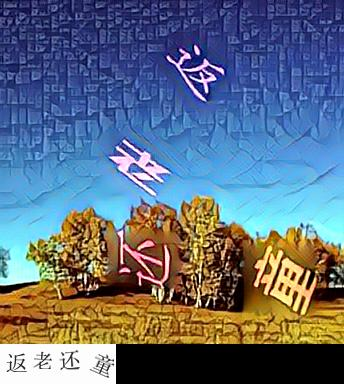character: (248, 241, 319, 320), (106, 134, 174, 203), (165, 39, 227, 107), (114, 226, 172, 289)
